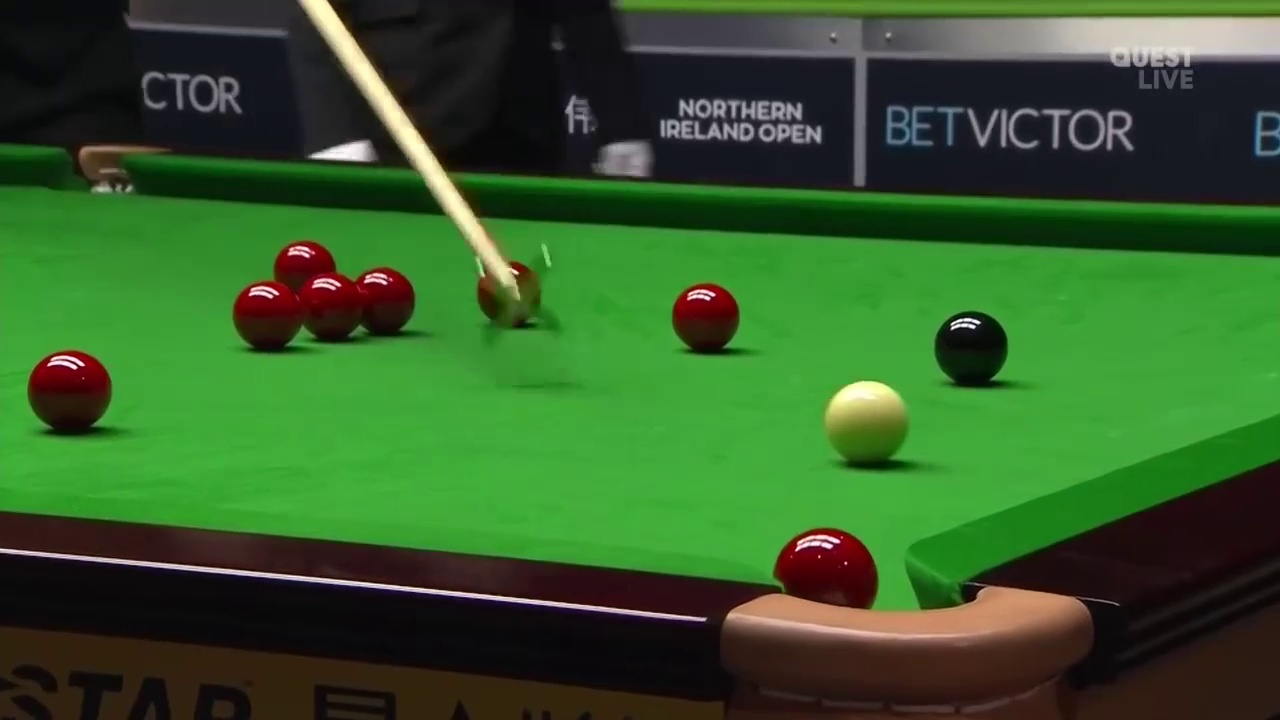black: (934, 309, 1007, 381)
red: (766, 527, 883, 593), (27, 350, 111, 437), (673, 282, 740, 351), (301, 270, 360, 345), (362, 264, 417, 342), (233, 282, 297, 346), (275, 242, 336, 272)
white: (825, 381, 908, 466)
